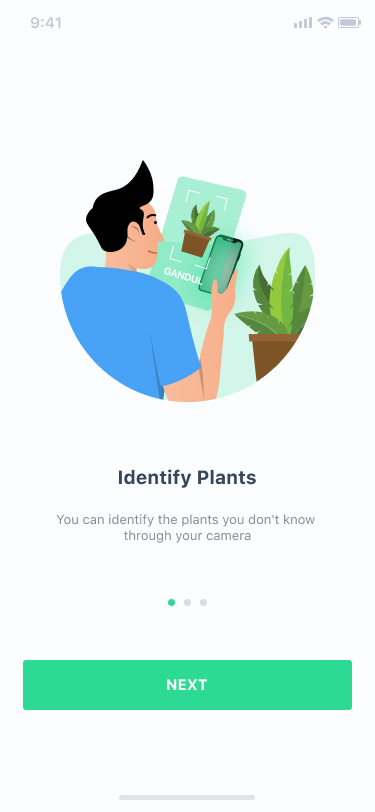Image: (60, 160, 316, 403)
PageIndicator: (167, 598, 209, 608)
Text: (57, 514, 316, 544), (119, 469, 257, 489)
TextButton: (24, 660, 352, 710)
UpperTaskBar: (31, 17, 362, 30)
